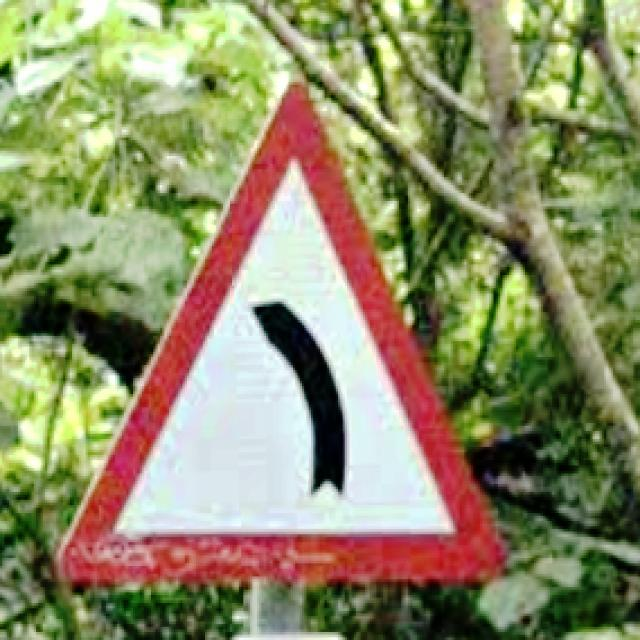leftbend: (56, 82, 505, 587)
